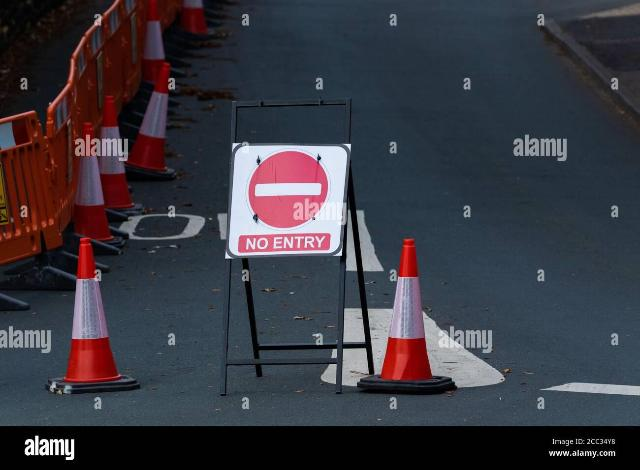B2: (249, 152, 331, 229)
